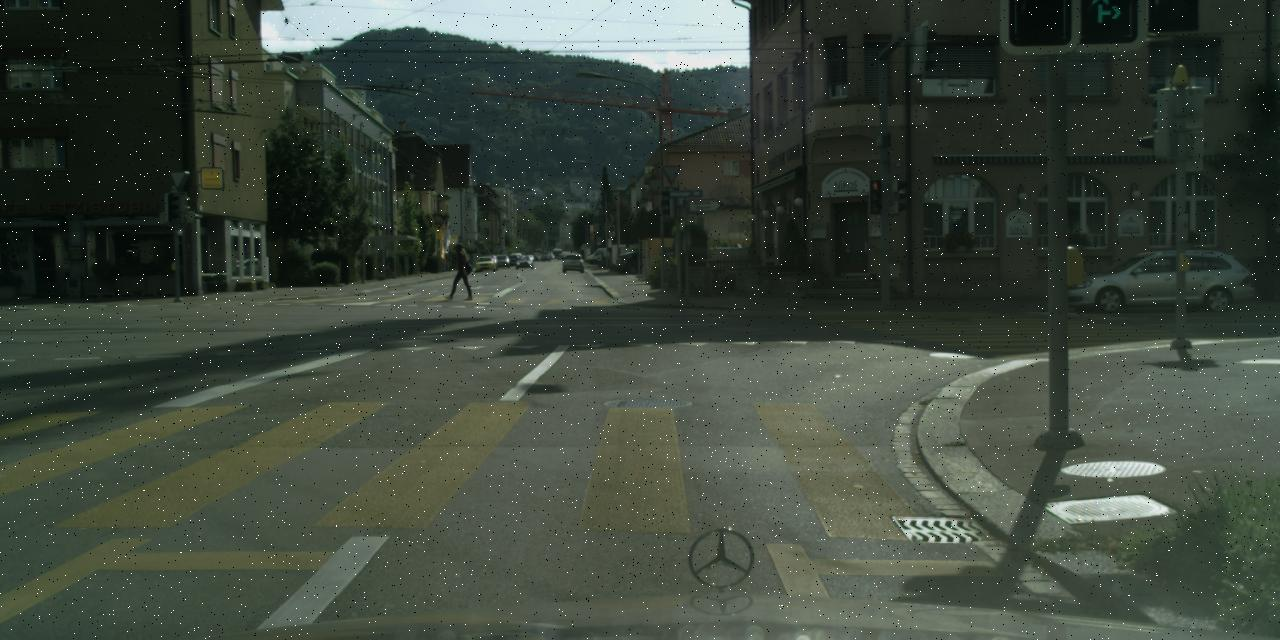ped: (447, 242, 470, 298)
